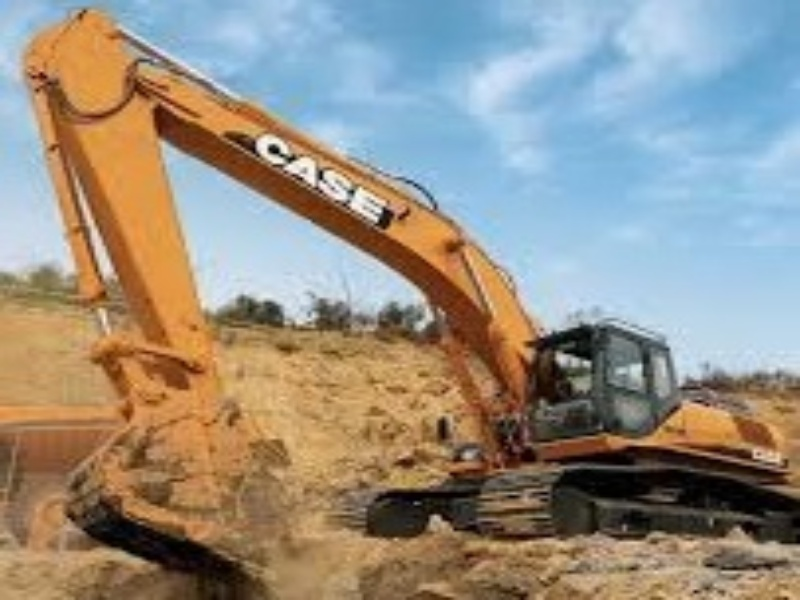wajueji: (374, 265, 800, 564)
